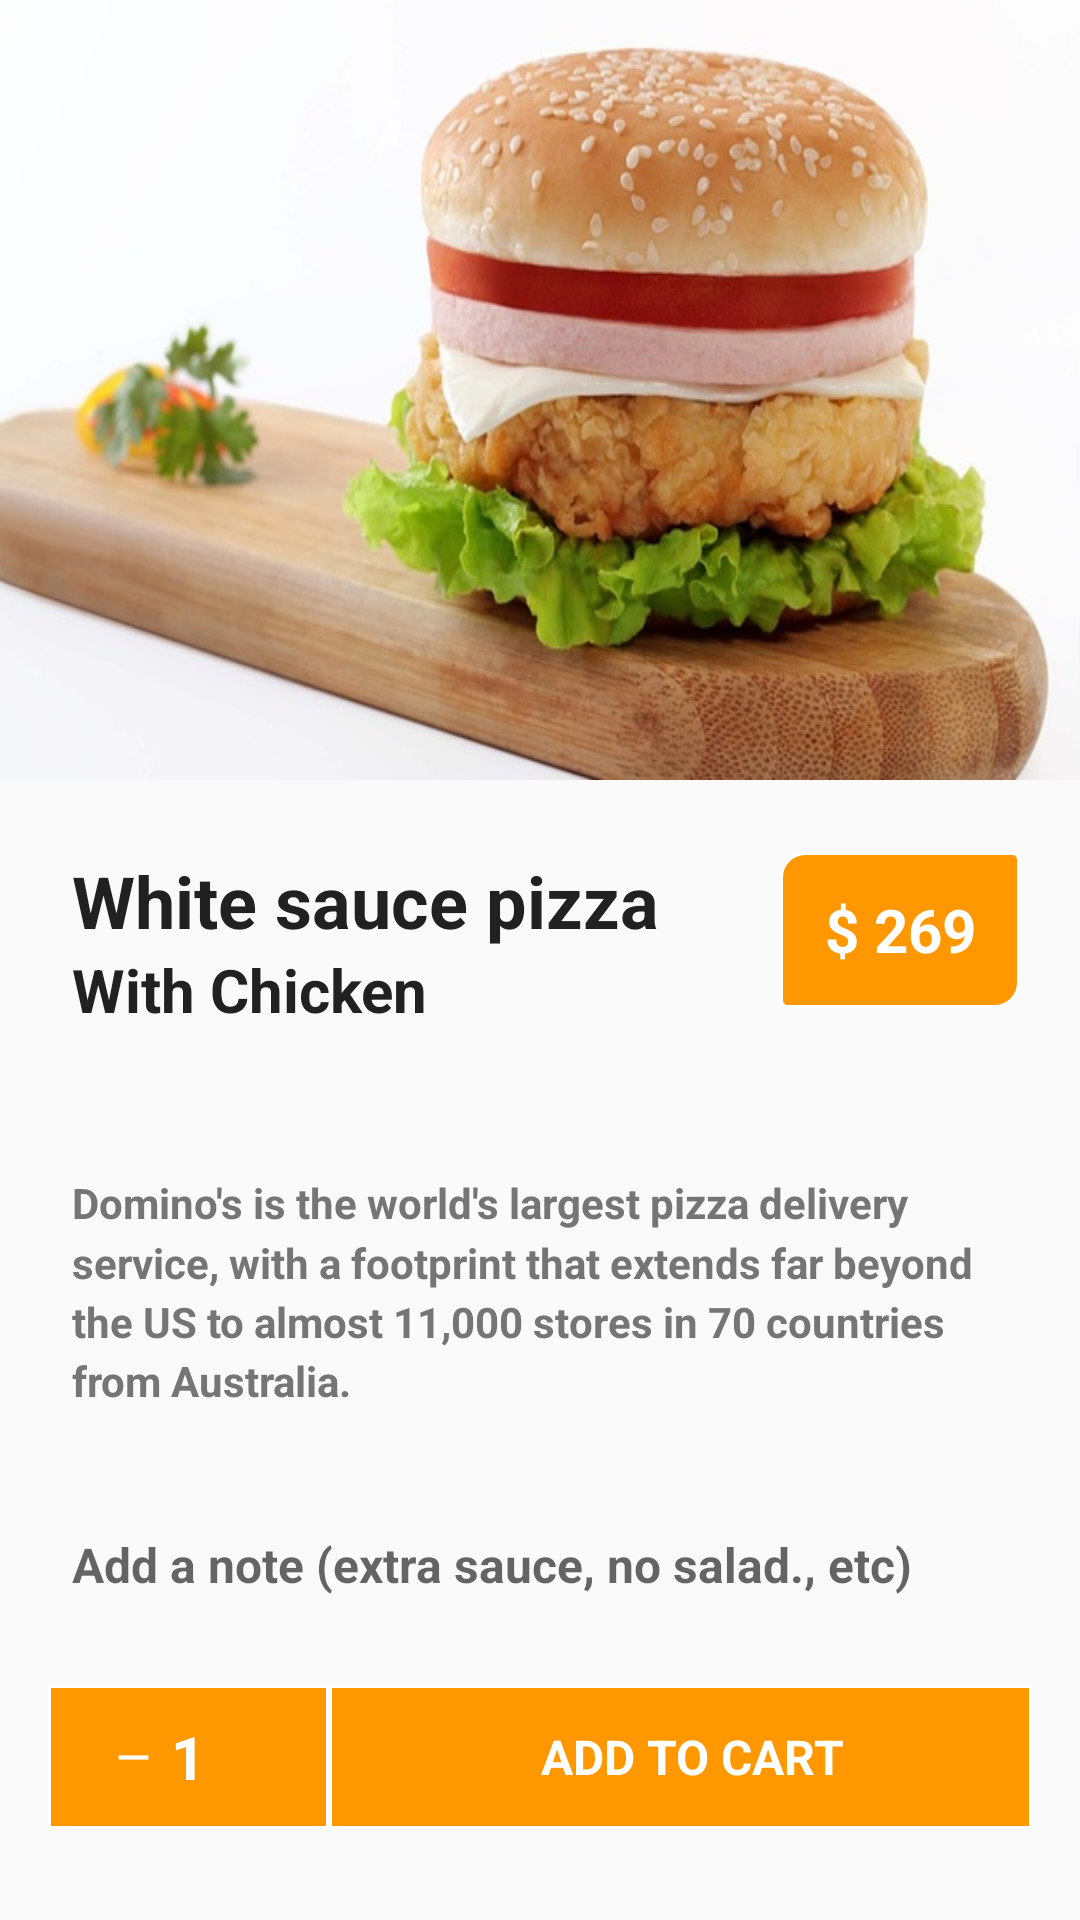

Icon bounding boxes for this 1080×1920 phone screenshot, format (x1, y1, x2, y2):
remove: (51, 1688, 171, 1826)
